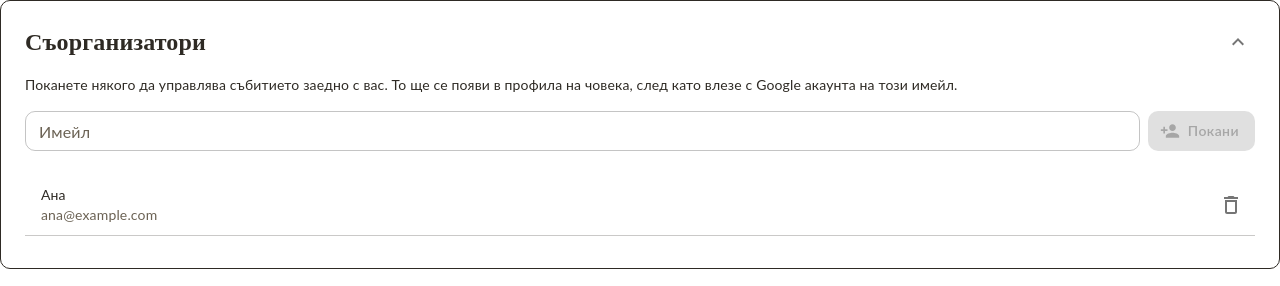
Test: CoownersPanel › lets the owner remove a co-owner
The image size is (1280, 286).
Click the button named "Премахни ana@example.com" at (1231, 205), box [1211,185,1251,225]
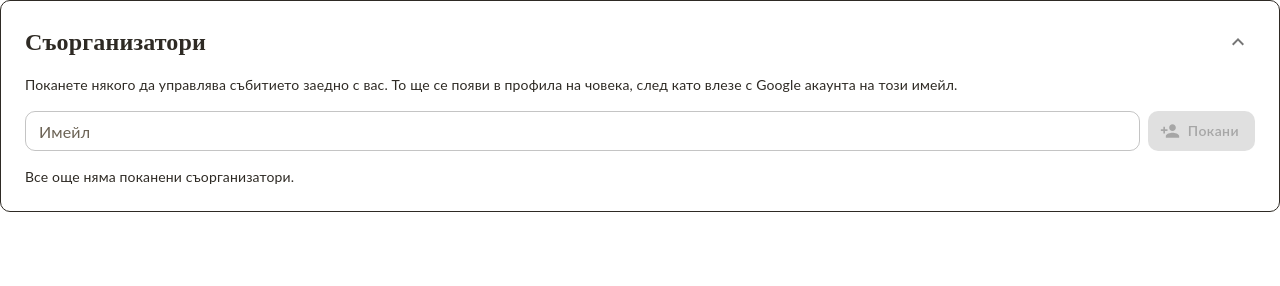
expect the text "Ана" is gone: met
